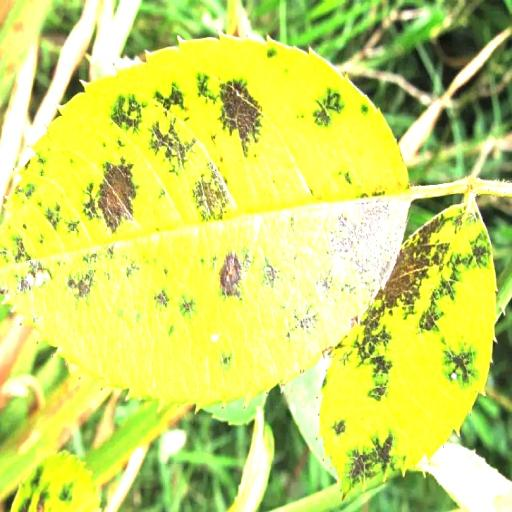downy_mildew: (0, 37, 407, 405), (321, 200, 495, 492), (11, 453, 99, 511)
